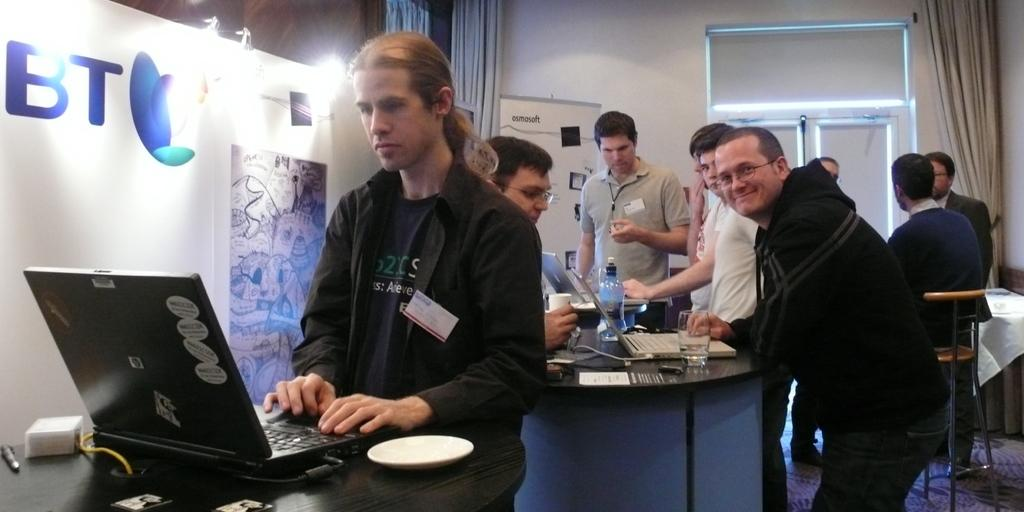Laptop: (19, 271, 394, 486), (574, 271, 737, 358), (540, 253, 649, 303)
